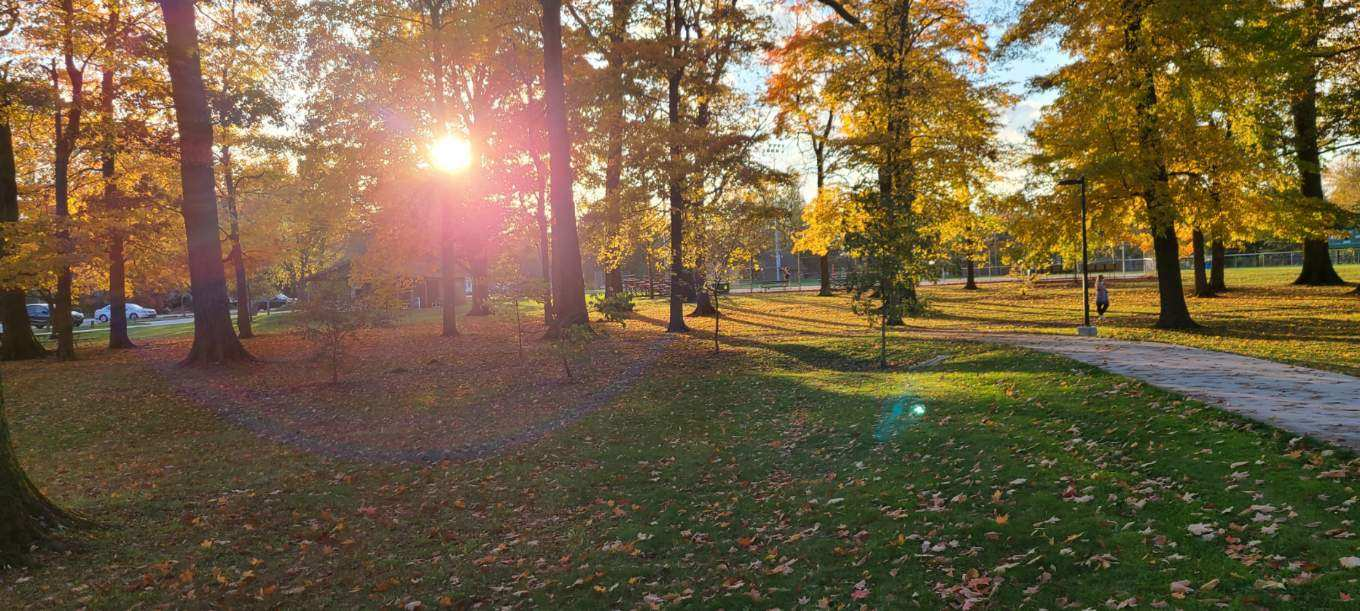tree: (152, 1, 257, 369), (1120, 5, 1201, 331), (536, 1, 596, 338), (1280, 1, 1349, 289), (41, 2, 84, 357), (99, 1, 139, 353), (877, 1, 921, 315), (223, 13, 259, 337), (799, 22, 840, 299), (433, 1, 465, 341), (464, 1, 495, 321), (691, 2, 721, 319), (663, 1, 687, 335), (608, 1, 628, 318), (952, 102, 984, 294), (1192, 125, 1211, 298), (1209, 145, 1228, 293)
